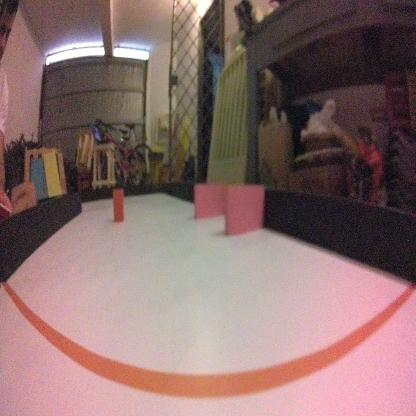magenta: (224, 184, 264, 233), (193, 180, 225, 218)
red: (110, 186, 125, 228)
